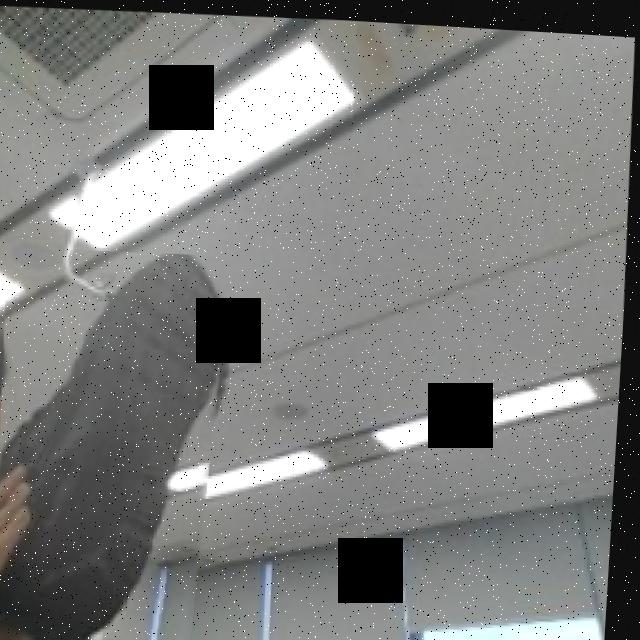shoe: (0, 242, 242, 640)
